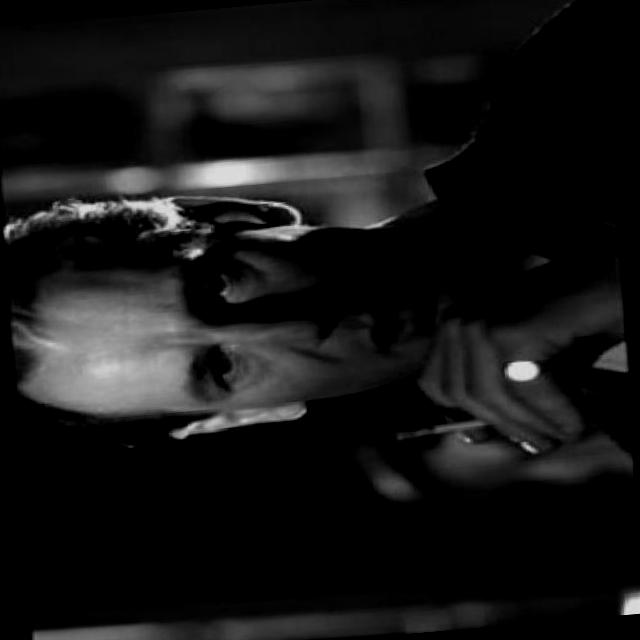smoke: (394, 412, 490, 445)
